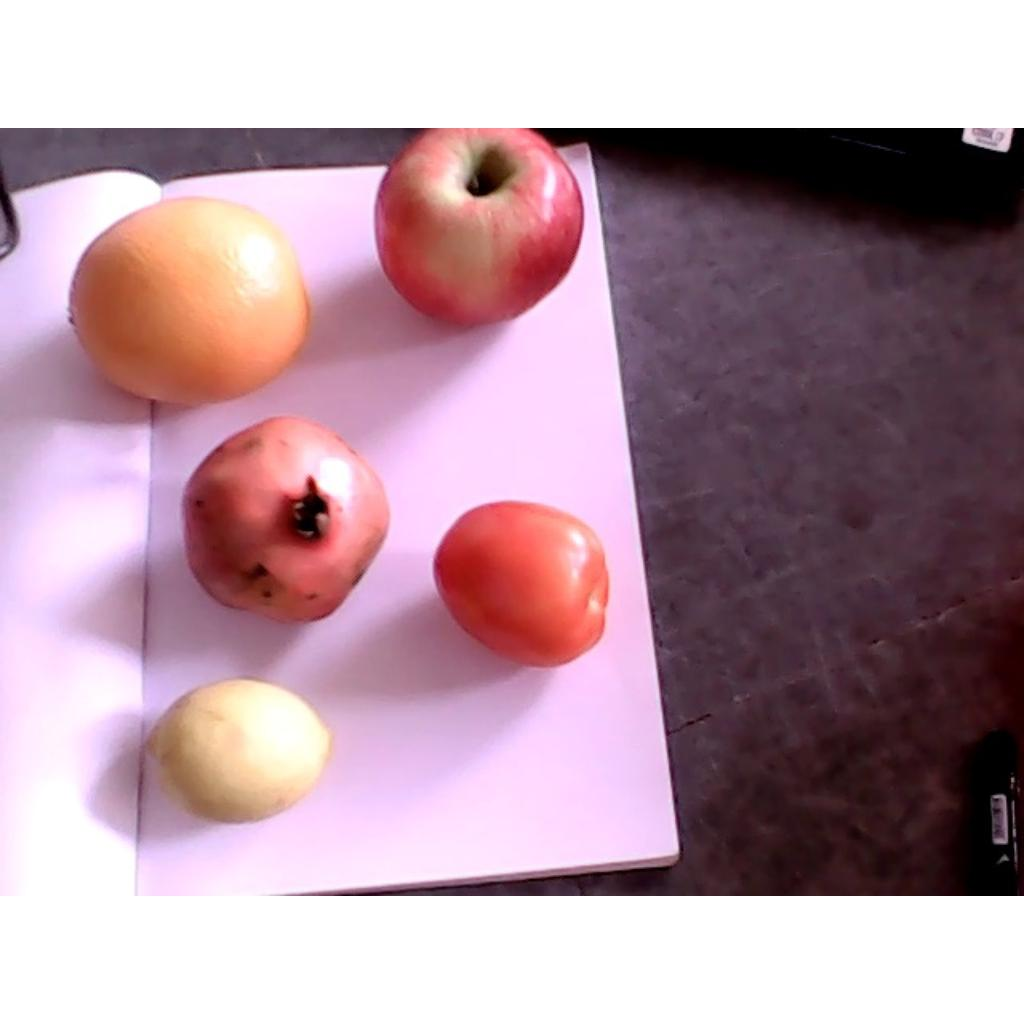apple: (374, 129, 583, 328)
lemon: (143, 680, 333, 821)
orange: (68, 197, 309, 405)
pomegranate: (181, 417, 390, 621)
tomato: (432, 500, 610, 666)
